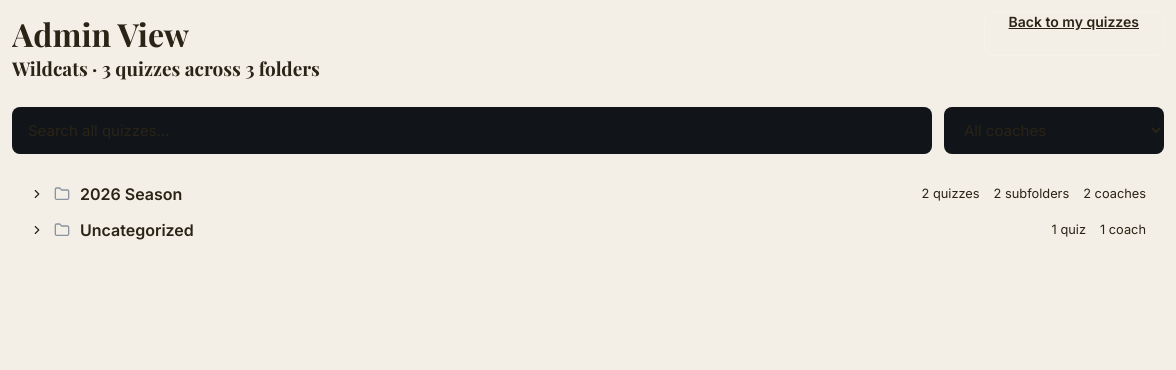
Test: AdminQuizzesPage › expands one level at a time
The image size is (1176, 370).
Click the text "2026 Season": (131,194) [80, 184, 182, 204]
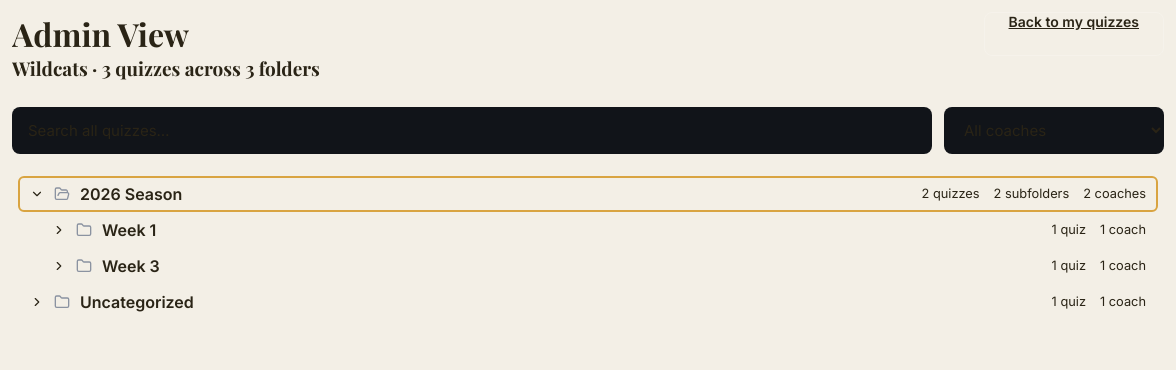
Expected: the text "Redzone Install" is not shown
Expected: the text "Week 3" is shown
Click the text "Week 3": (131,266) [102, 256, 160, 276]
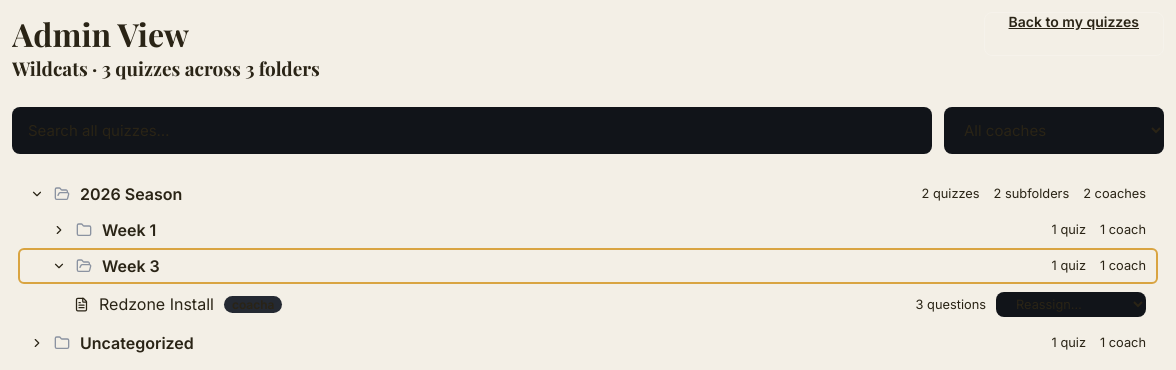
Expected: the link "Redzone Install" is shown, [99, 294, 214, 314]
